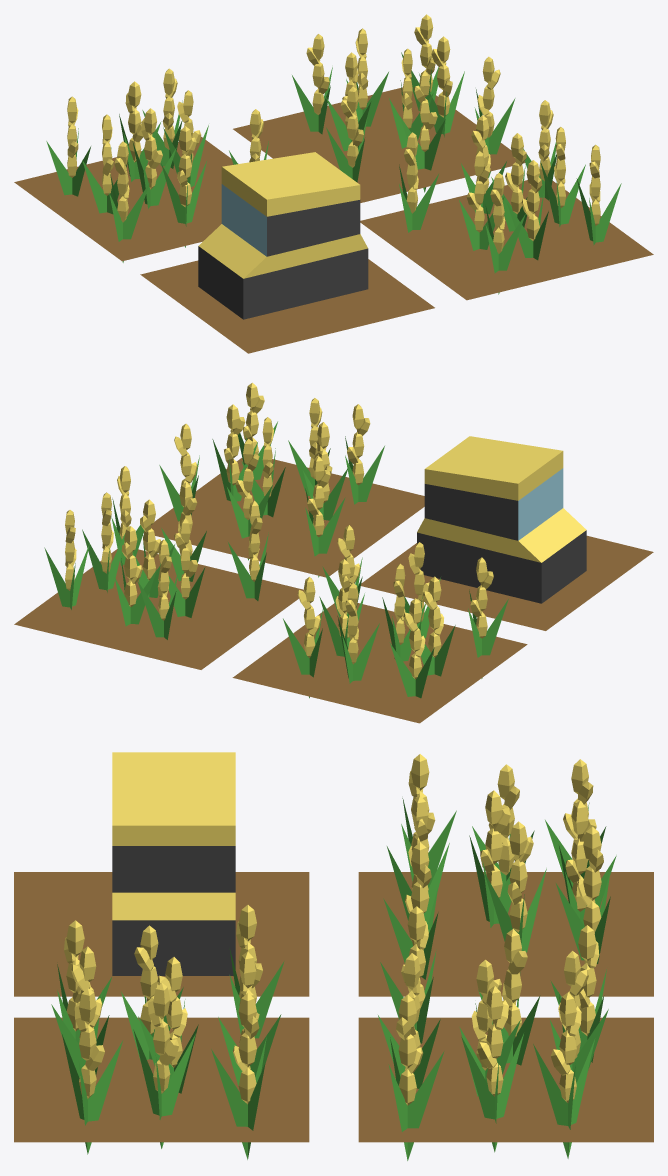
Rendered from WheatField.fbx.
3 views of the same model, one above another, from view 1: azimuth 30°, elevation 25°; view 2: azimuth 150°, elevation 25°; view 3: azimuth 270°, elevation 25° (orthographic). The views are drawn at different scales.
Visible parts, largest first — view 1: Ground, Wheat, Tractor; view 2: Ground, Wheat, Tractor; view 3: Ground, Wheat, Tractor.
Part boxes in pixels (<box>): Ground: <box>14,87,653,353</box>; Wheat: <box>46,14,621,294</box>; Tractor: <box>198,152,368,319</box>; Ground: <box>14,458,653,723</box>; Wheat: <box>44,382,508,698</box>; Tractor: <box>417,436,586,603</box>; Ground: <box>14,872,653,1142</box>; Wheat: <box>51,754,616,1160</box>; Tractor: <box>112,752,235,975</box>.
Size of the model in its own units: 5200 by 1700 by 5200.
